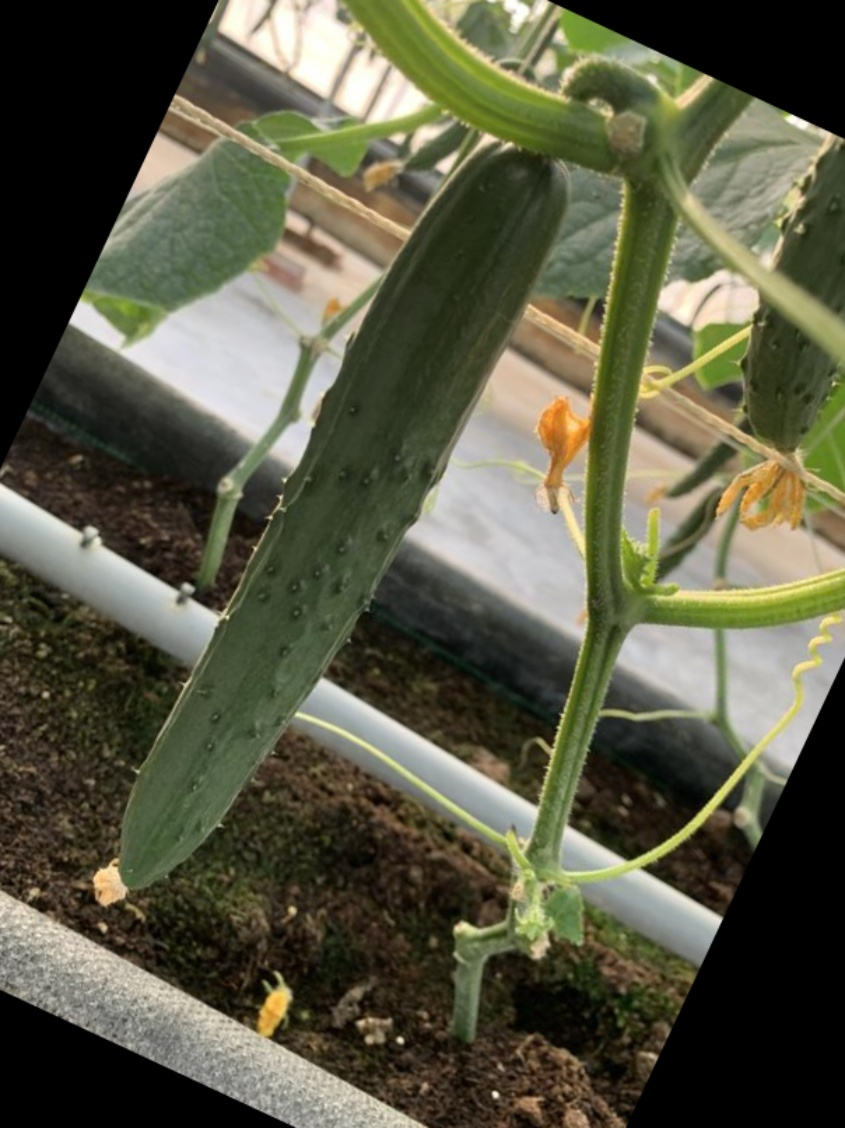mature: (63, 170, 566, 877)
